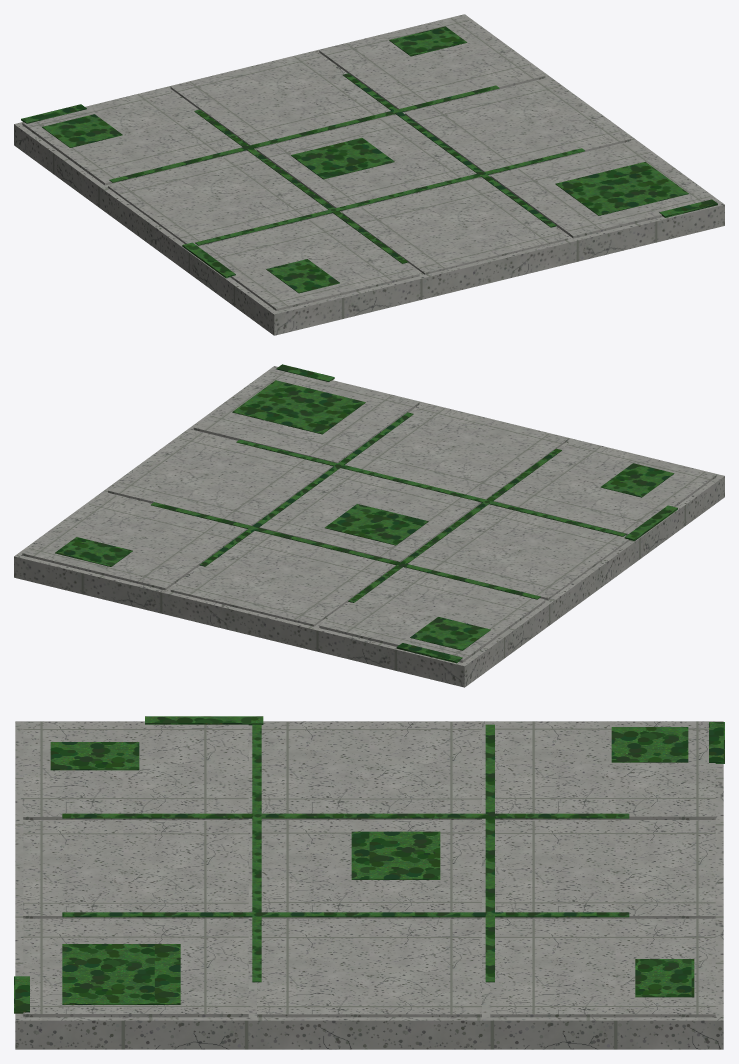
Rendered from maze_ground.obj.
3 views of the same model, one above another, from view 1: azimuth 30°, elevation 25°; view 2: azimuth 150°, elevation 25°; view 3: azimuth 270°, elevation 25° (orthographic). The views are drawn at different scales.
Bounding box in the file's own units: 12.02 × 0.62 × 12.04.
Materials: 2 (2 with a texture image).
